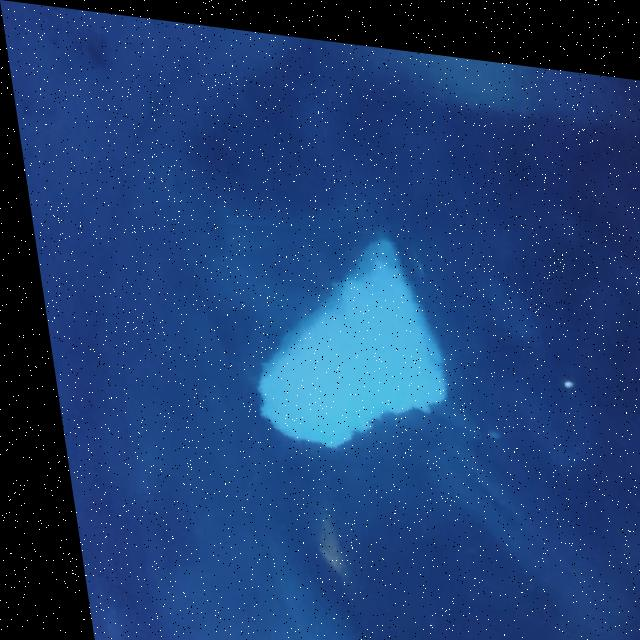thermocoal: (184, 202, 465, 467)
